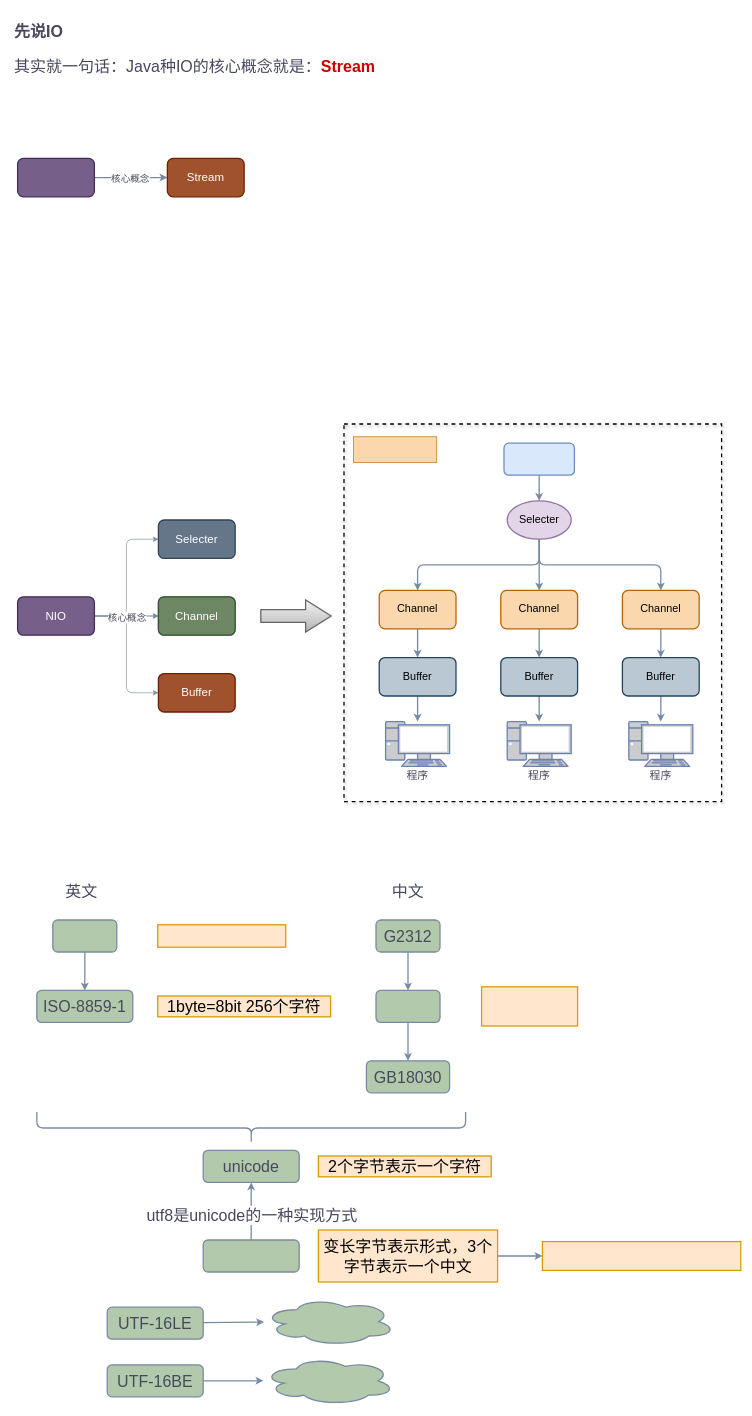
Some shapes in this 752 by 1416 pixel diagram are drawn without their labels. Here are the shapes that lost their labels. From the top down, the centre of each, then its label:
At point 56,177: "IO".
At point 395,449: "线程模型".
At point 539,459: "Thread".
At point 84,935: "ASCII".
At point 221,936: "7bit 128个字符".
At point 407,1006: "GBK".
At point 529,1006: "2个字节表示一个汉字".
At point 251,1255: "UTF-8".
At point 641,1256: "BOM (Byte Order Mark)".
At point 329,1321: "little endian".
At point 328,1380: "big endian".
